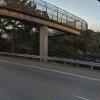Bridge: (7, 0, 82, 54)
